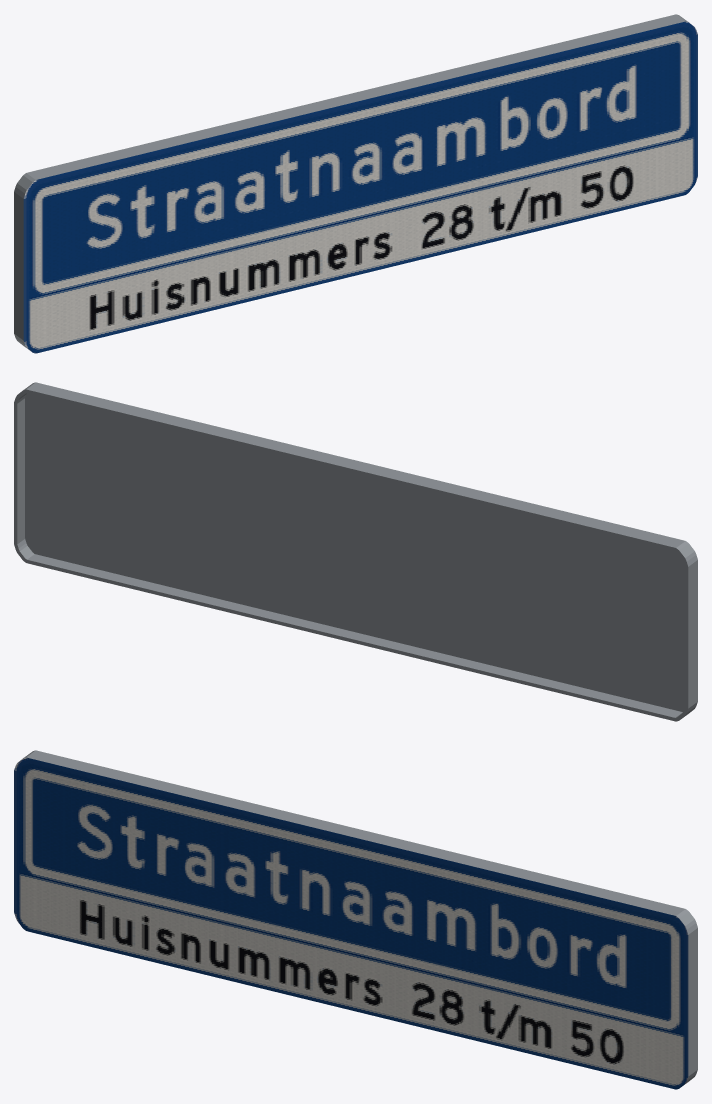
3 renders of one model, top to bottom at view 1: azimuth 30°, elevation 25°; view 2: azimuth 150°, elevation 25°; view 3: azimuth 330°, elevation 25°, orthographic.
Visible parts, largest first — view 1: cat_7e2f28a57b895957; view 2: cat_7e2f28a57b895957; view 3: cat_7e2f28a57b895957.
Part boxes in pixels (left/top/right/bottom): cat_7e2f28a57b895957: left=14, top=14, right=697, bottom=353; cat_7e2f28a57b895957: left=14, top=382, right=697, bottom=721; cat_7e2f28a57b895957: left=14, top=750, right=697, bottom=1089.
Bounding box in the file's own units: 0.6 × 0.015 × 0.1476.
2 materials, 1 textured.
